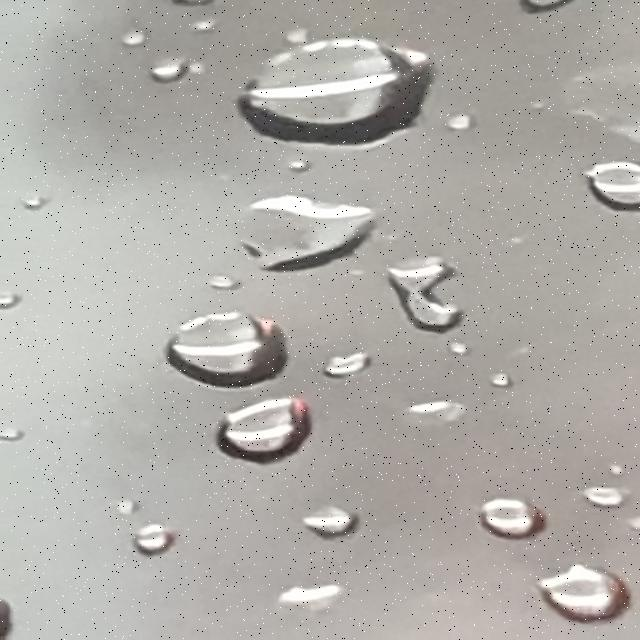raindrop: (212, 27, 446, 152), (146, 299, 302, 399), (240, 184, 383, 272), (212, 386, 315, 474), (531, 556, 640, 634), (378, 251, 468, 335), (242, 574, 364, 632), (452, 498, 554, 548), (99, 514, 188, 570), (280, 496, 364, 552), (571, 150, 640, 217), (134, 42, 202, 100), (300, 345, 382, 392), (432, 317, 507, 366), (402, 390, 468, 439), (264, 148, 334, 194), (416, 90, 476, 142), (98, 490, 148, 528), (576, 478, 634, 509), (194, 277, 246, 309), (13, 183, 59, 218), (0, 413, 25, 477), (114, 25, 164, 53), (176, 11, 223, 38), (481, 368, 529, 394), (0, 280, 25, 326)
